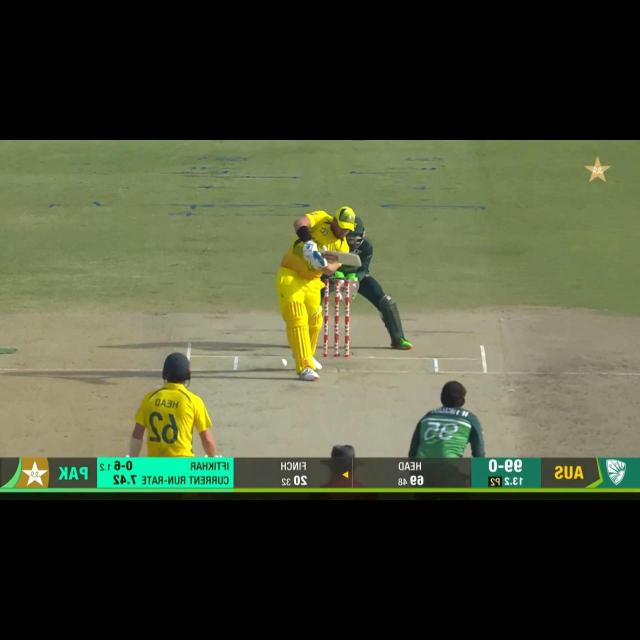bat: (320, 250, 365, 267)
toe: (350, 253, 362, 268)
